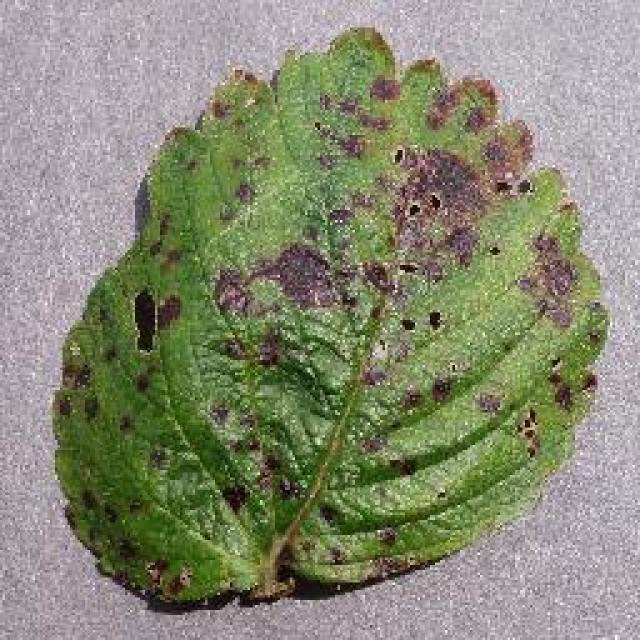Strawberry leaf scorch: (168, 125, 544, 507)
